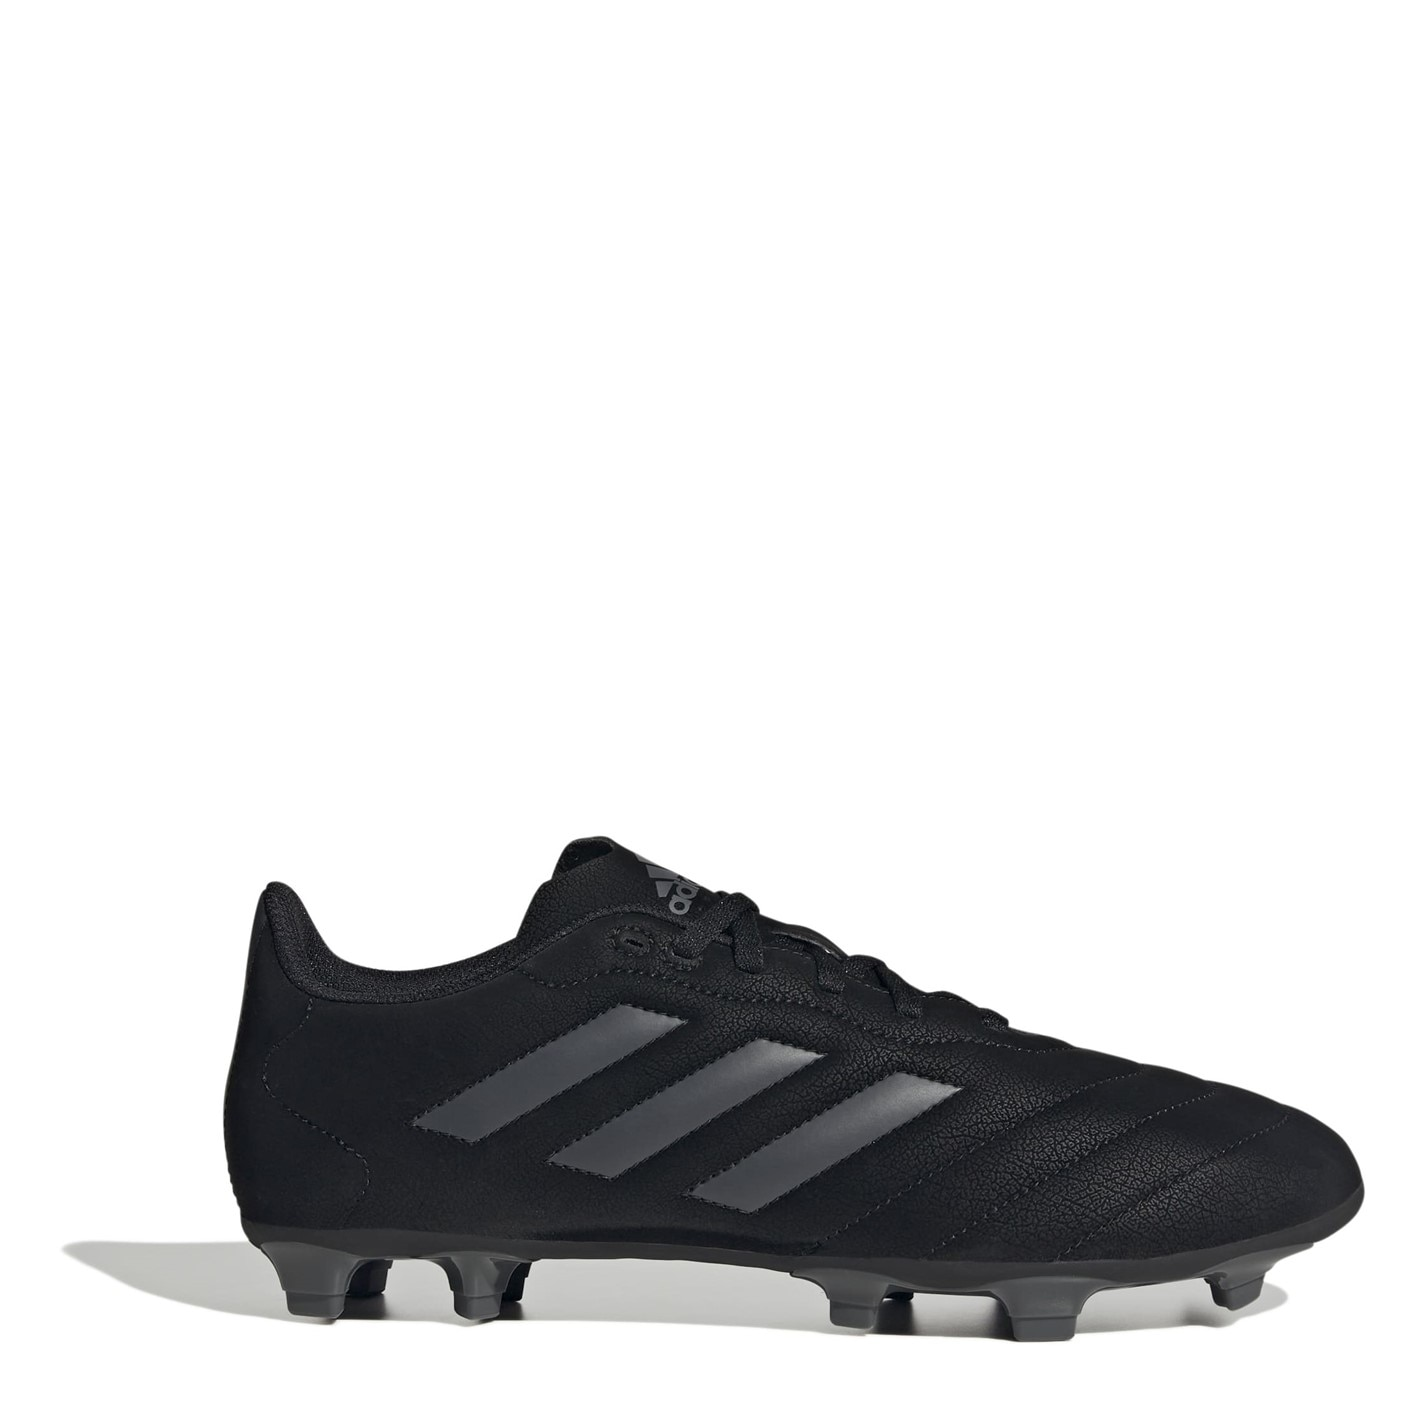football boots: (221, 835, 1368, 1341)
